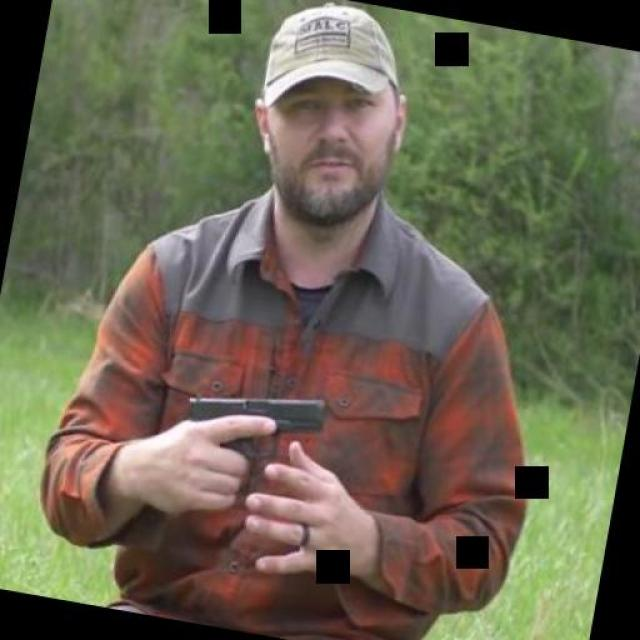gun: (165, 372, 330, 516)
